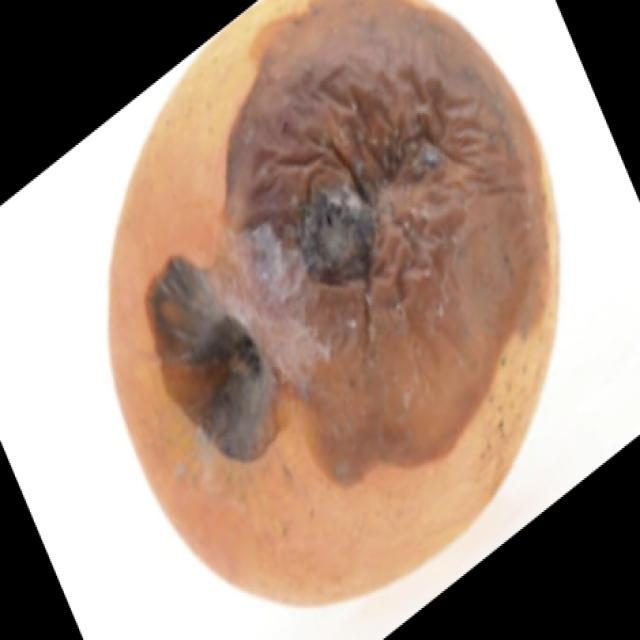Rotten: (95, 0, 575, 585)
